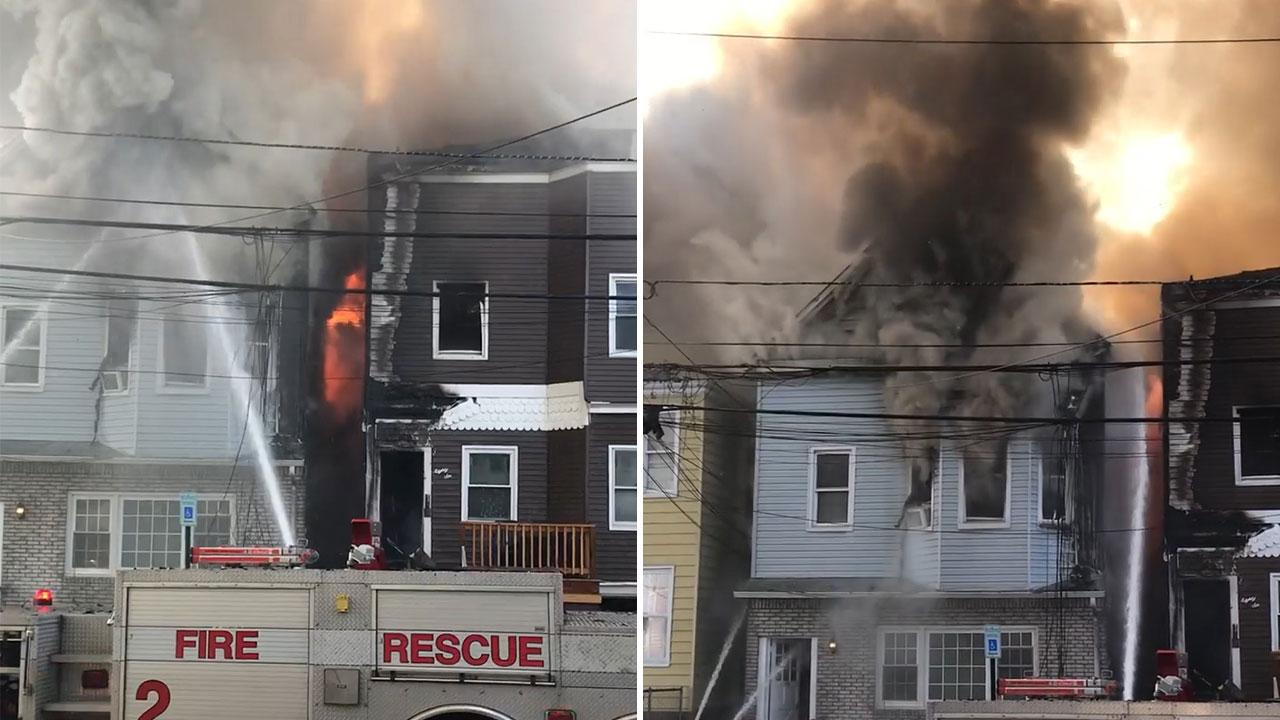Fire: (308, 237, 423, 448)
